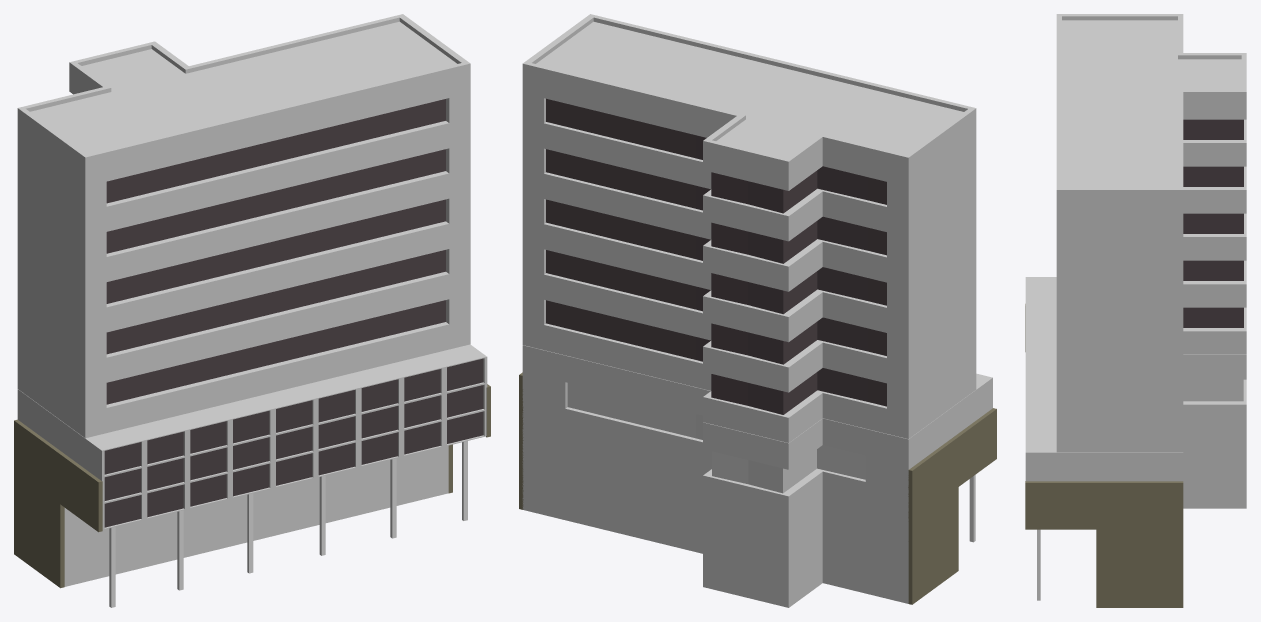
The model's file is building5.glb.
3 views of the same model, side by side, from view 1: azimuth 30°, elevation 25°; view 2: azimuth 150°, elevation 25°; view 3: azimuth 270°, elevation 25° (orthographic). The views are drawn at different scales.
Visible parts, largest first — view 1: Cube, Cube.003, Cube.004, Cube.002; view 2: Cube, Cube.003, Cube.002; view 3: Cube, Cube.002, Cube.003.
Boxes of the visible parts, x1,y1,x2,y2 form: Cube: [17, 14, 487, 586]; Cube.003: [106, 99, 445, 404]; Cube.004: [104, 358, 483, 527]; Cube.002: [14, 384, 490, 588]; Cube: [522, 14, 992, 607]; Cube.003: [546, 98, 886, 414]; Cube.002: [519, 372, 996, 604]; Cube: [1025, 14, 1246, 508]; Cube.002: [1025, 304, 1183, 607]; Cube.003: [1183, 119, 1243, 327].
Bounding box in the file's own units: 54.07 × 58.68 × 28.26.
